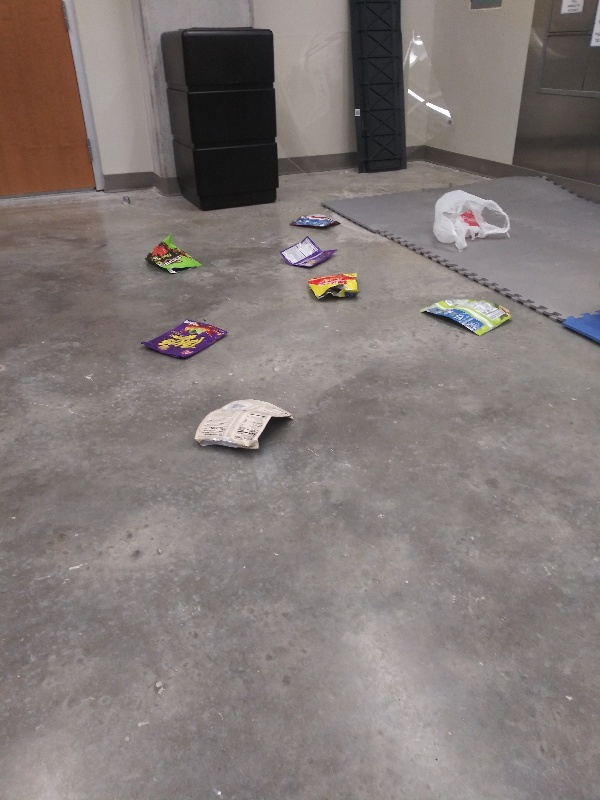bag: (186, 395, 298, 456), (138, 315, 235, 363), (417, 293, 518, 337), (142, 228, 209, 277), (276, 233, 342, 270), (302, 268, 362, 302), (285, 211, 345, 233)
